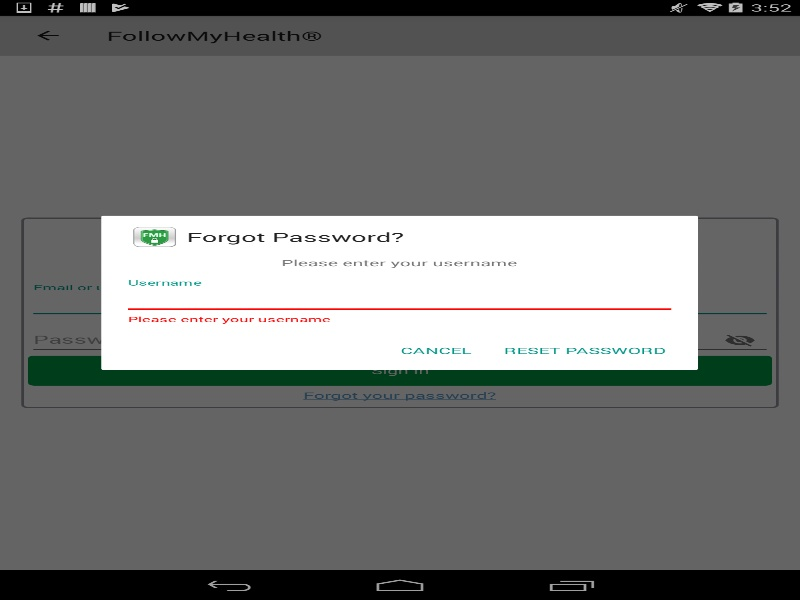Button: (487, 333, 682, 367), (384, 333, 487, 367)
Input: (122, 285, 676, 314)
